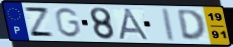8: (89, 6, 116, 41)
A: (117, 7, 152, 41)
D: (175, 8, 207, 42)
G: (53, 7, 83, 39)
I: (162, 7, 177, 43)
Z: (22, 6, 56, 38)
